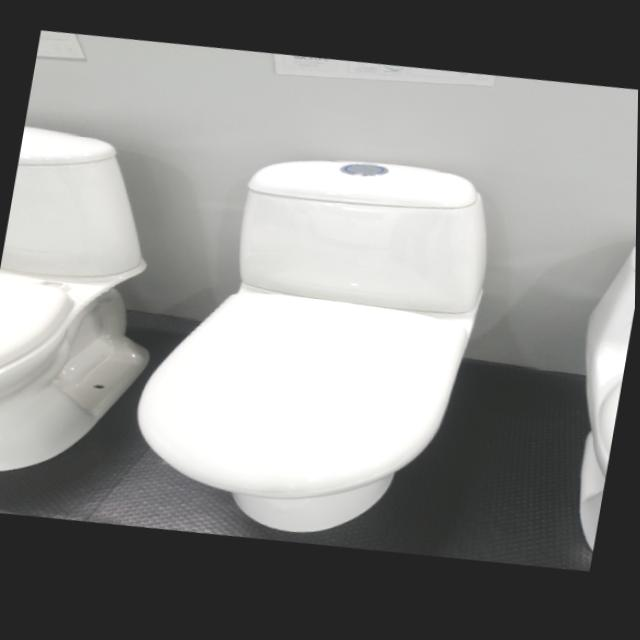toilet: (120, 129, 506, 567), (0, 117, 188, 494)
